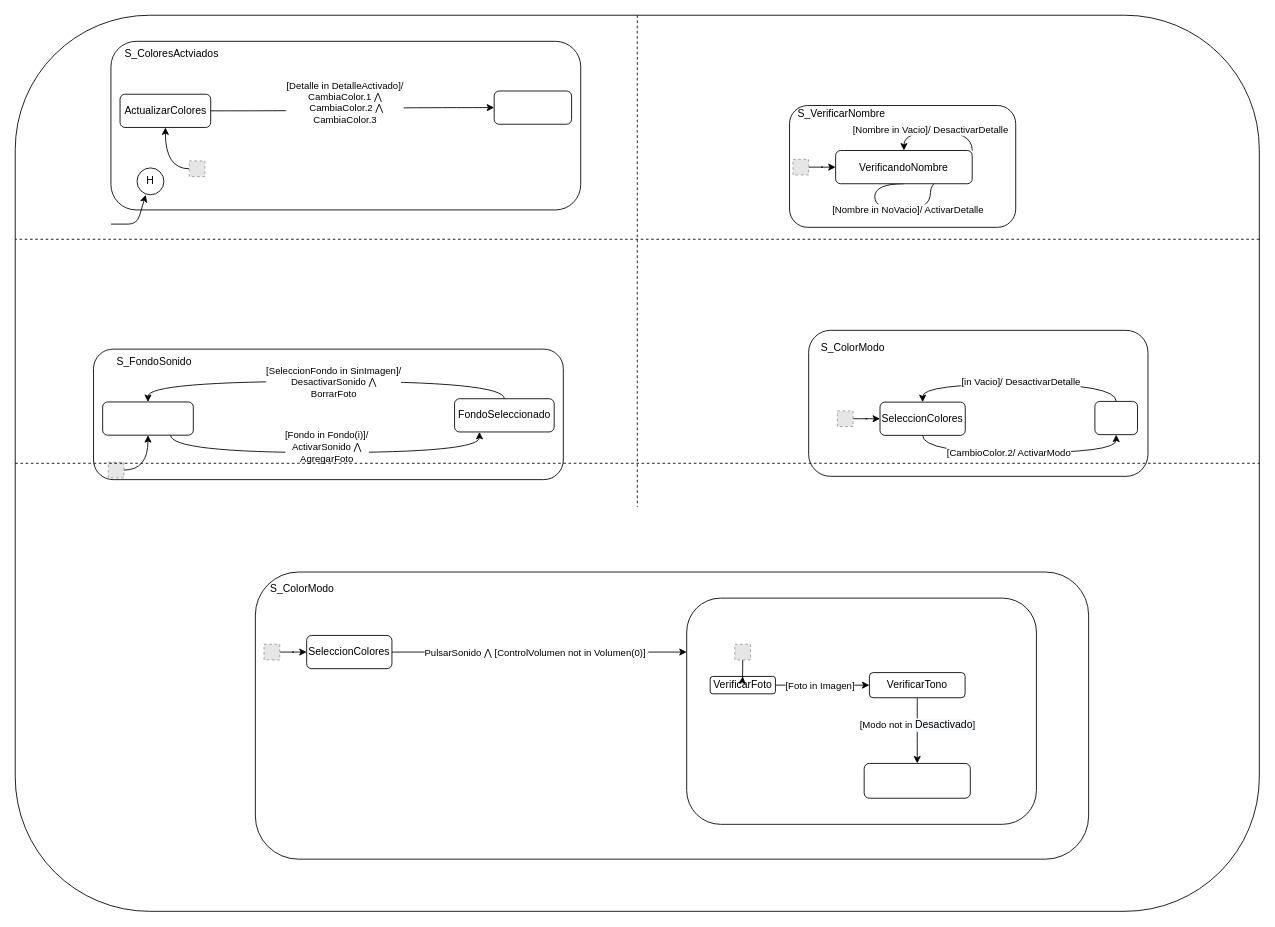
This 1275x927 diagram has some shape labels left out. Grey dashed boxes stand in for pictures. Each missing label, with the centre of its shape:
"ColorresActivado" goes at point 532,107.
"Detalle" goes at point 1116,418.
"EligiendoFondo" goes at point 147,418.
"ReproducirTono" goes at point 916,780.
